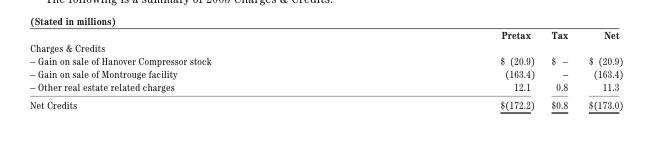table: (29, 28, 622, 110)
table column: (29, 28, 354, 110), (354, 28, 542, 110), (577, 28, 622, 110), (542, 28, 577, 110)
table column header: (29, 28, 622, 41)
table projected row header: (29, 41, 622, 54)
table row: (29, 79, 622, 95), (29, 95, 622, 110), (29, 28, 622, 41), (29, 41, 622, 54), (29, 54, 622, 67), (29, 67, 622, 79)
